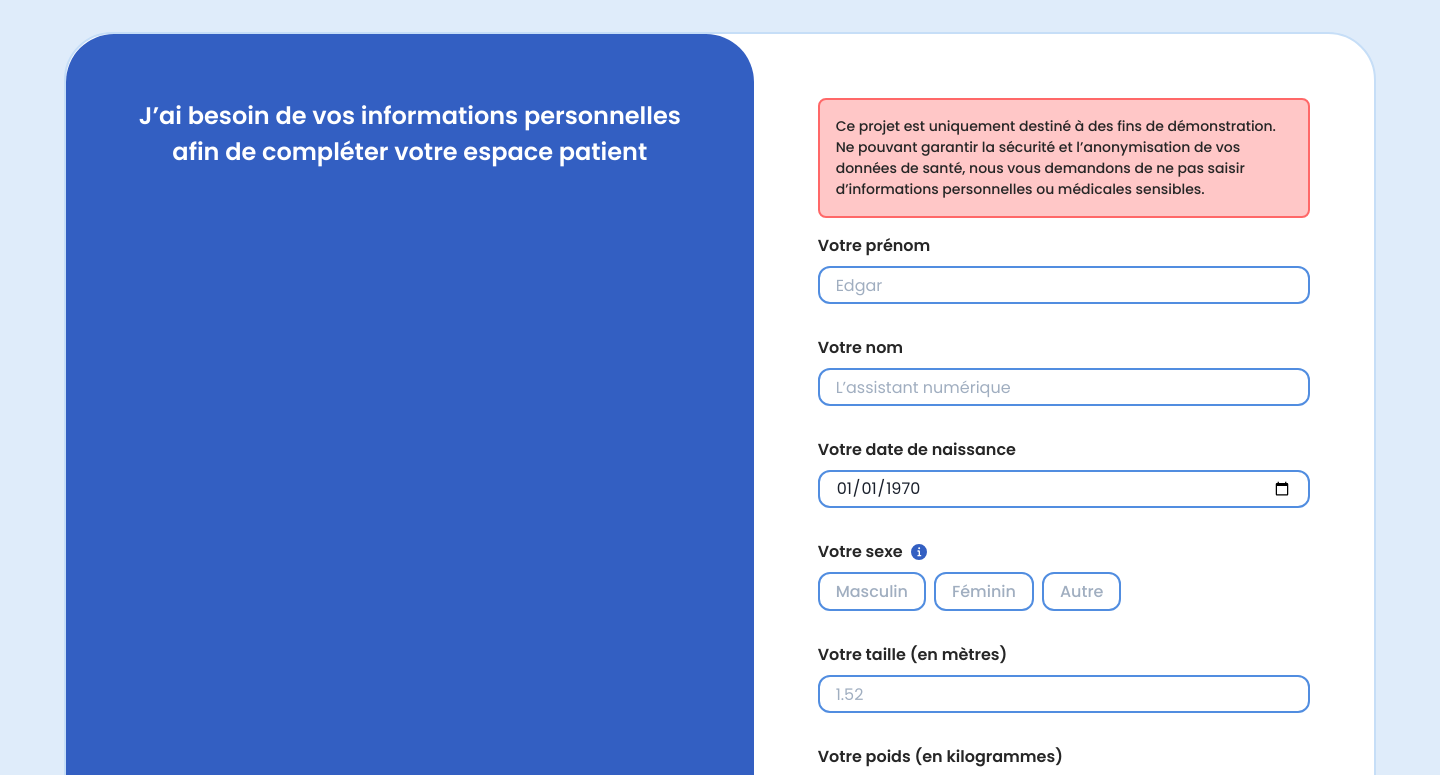
it: Personal Info Page tests - Desktop › Working page › Error states › Bad size (too big)
Type "5" into the number field with id "edgar-onboardingPersonalPage-formSize-input". click: x=1064, y=694
box: [818,675,1310,713]
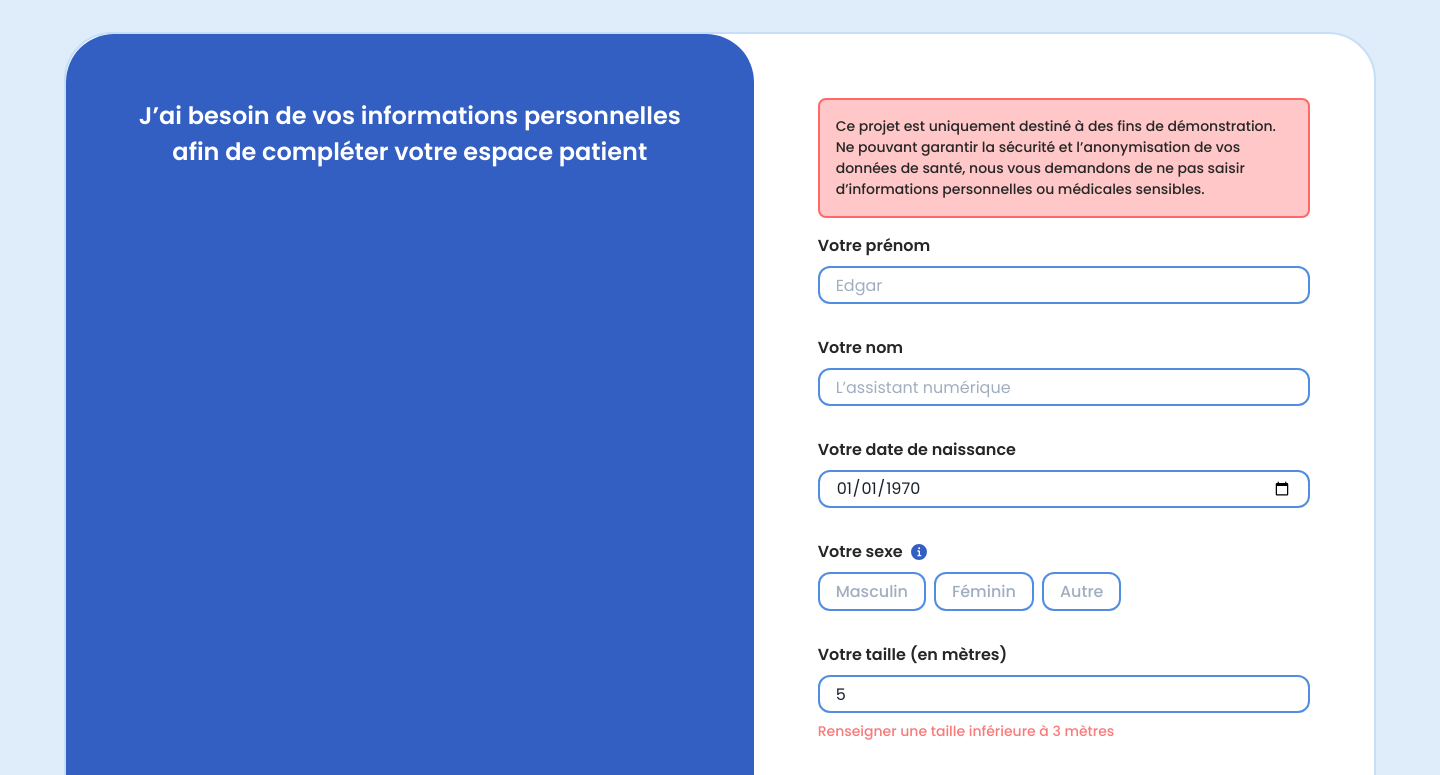
Check: the text "Renseigner une taille inférieure à 3 mètres" is shown, box [818,721,1114,742]
Check: the text with id "edgar-onboardingPersonalPage-formSizeErrorMax-text" reads "Renseigner une taille inférieure à 3 mètres", box [818,721,1115,742]
